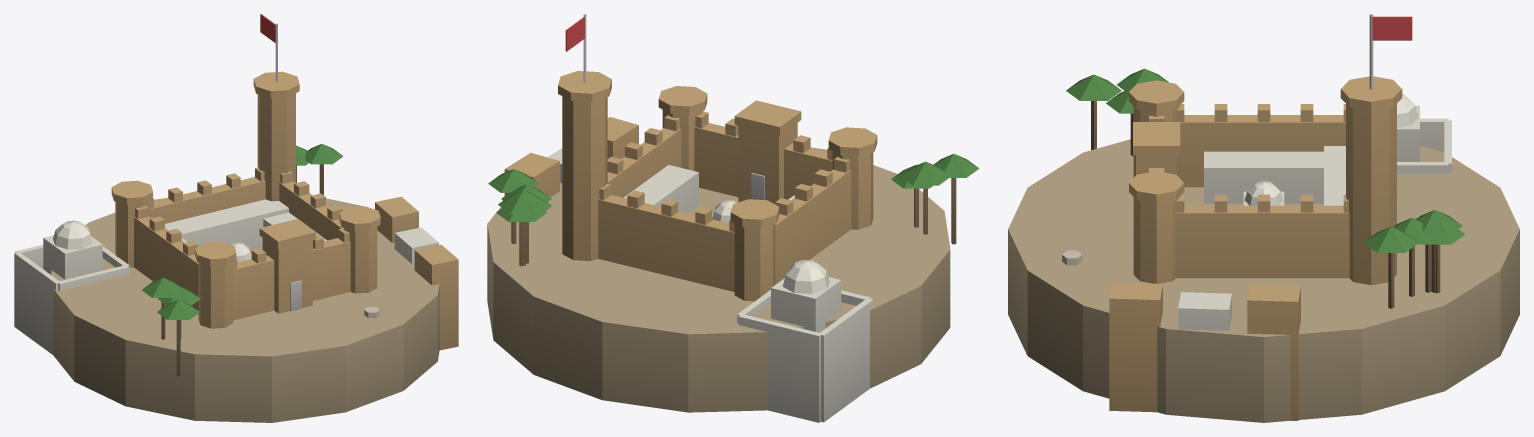
The model's file is abbey_isl_a.glb.
3 views of the same model, side by side, from view 1: azimuth 30°, elevation 25°; view 2: azimuth 150°, elevation 25°; view 3: azimuth 270°, elevation 25° (orthographic). The views are drawn at different scales.
Visible parts, largest first — view 1: abbey_isl_a; view 2: abbey_isl_a; view 3: abbey_isl_a.
Boxes of the visible parts, left/top/right/bottom form: abbey_isl_a: left=14, top=14, right=458, bottom=422; abbey_isl_a: left=487, top=14, right=979, bottom=422; abbey_isl_a: left=1008, top=14, right=1519, bottom=422.
Bounding box in the file's own units: 2 × 1.49 × 2.
